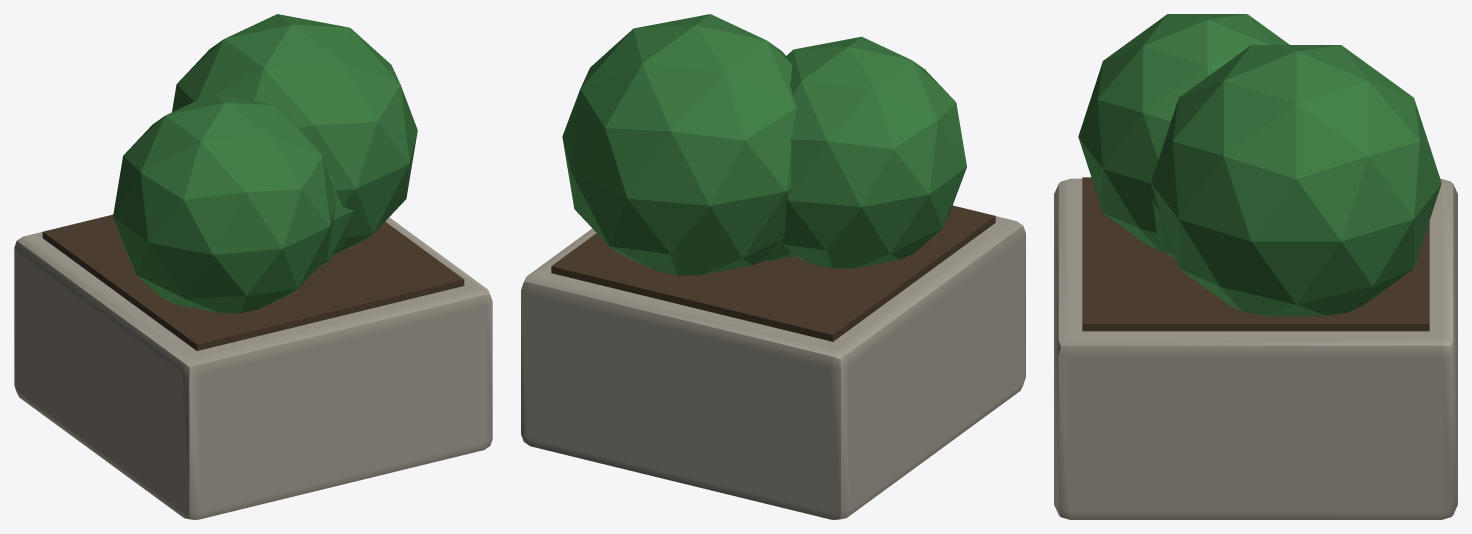
The model's file is planter.glb.
3 renders of one model, left to right at view 1: azimuth 30°, elevation 25°; view 2: azimuth 150°, elevation 25°; view 3: azimuth 270°, elevation 25°, orthographic. The views are drawn at different scales.
Parts seen in each view (by area): view 1: part-planter-stone, part-shrub, part-soil; view 2: part-planter-stone, part-shrub, part-soil; view 3: part-planter-stone, part-shrub, part-soil.
Part boxes in pixels (<box>): part-planter-stone: <box>14,217,492,519</box>; part-shrub: <box>113,14,417,313</box>; part-soil: <box>42,214,464,350</box>; part-planter-stone: <box>521,216,1025,519</box>; part-shrub: <box>562,14,966,275</box>; part-soil: <box>551,205,995,341</box>; part-planter-stone: <box>1054,178,1457,519</box>; part-shrub: <box>1078,14,1441,315</box>; part-soil: <box>1082,177,1429,331</box>.
Size of the model in its own units: 10.22 by 11.48 by 10.
